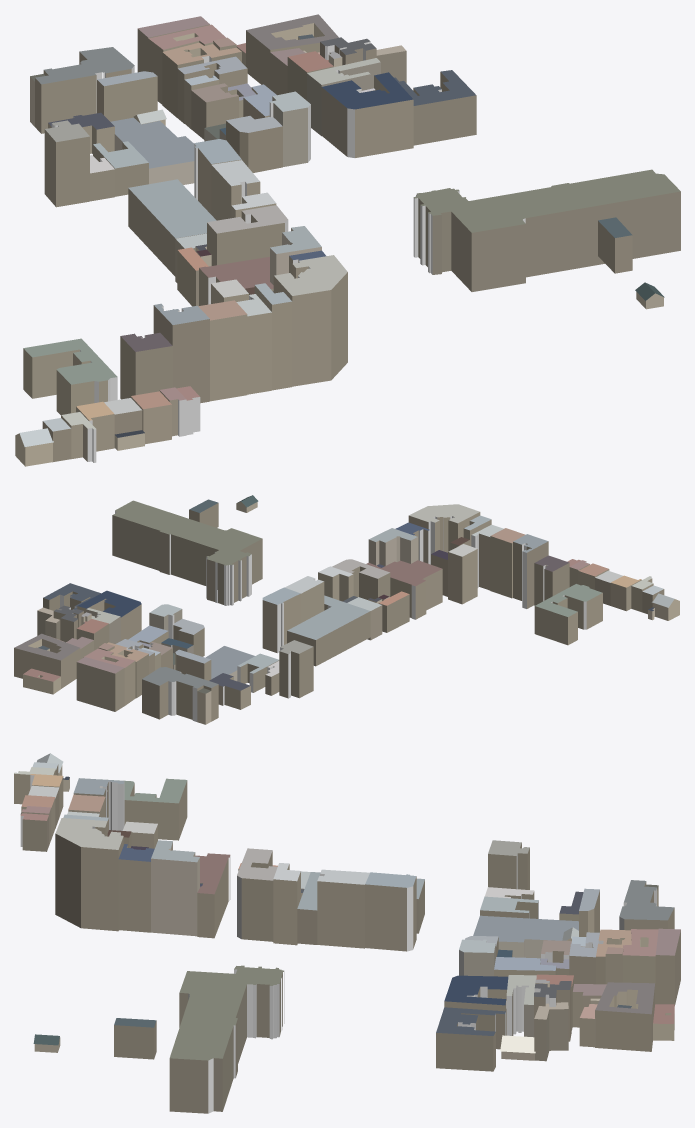
The picture shows the model from 3 angles, top to bottom: view 1: azimuth 30°, elevation 25°; view 2: azimuth 150°, elevation 25°; view 3: azimuth 270°, elevation 25°; orthographic projection. The views are drawn at different scales.
Visible parts, largest first — view 1: tuile; view 2: tuile; view 3: tuile.
Part boxes in pixels (x1=…): tuile: x1=15, y1=14, x2=680, y2=466; tuile: x1=14, y1=495, x2=679, y2=724; tuile: x1=14, y1=753, x2=680, y2=1113.
Size of the model in its own units: 286 by 40.27 by 251.
